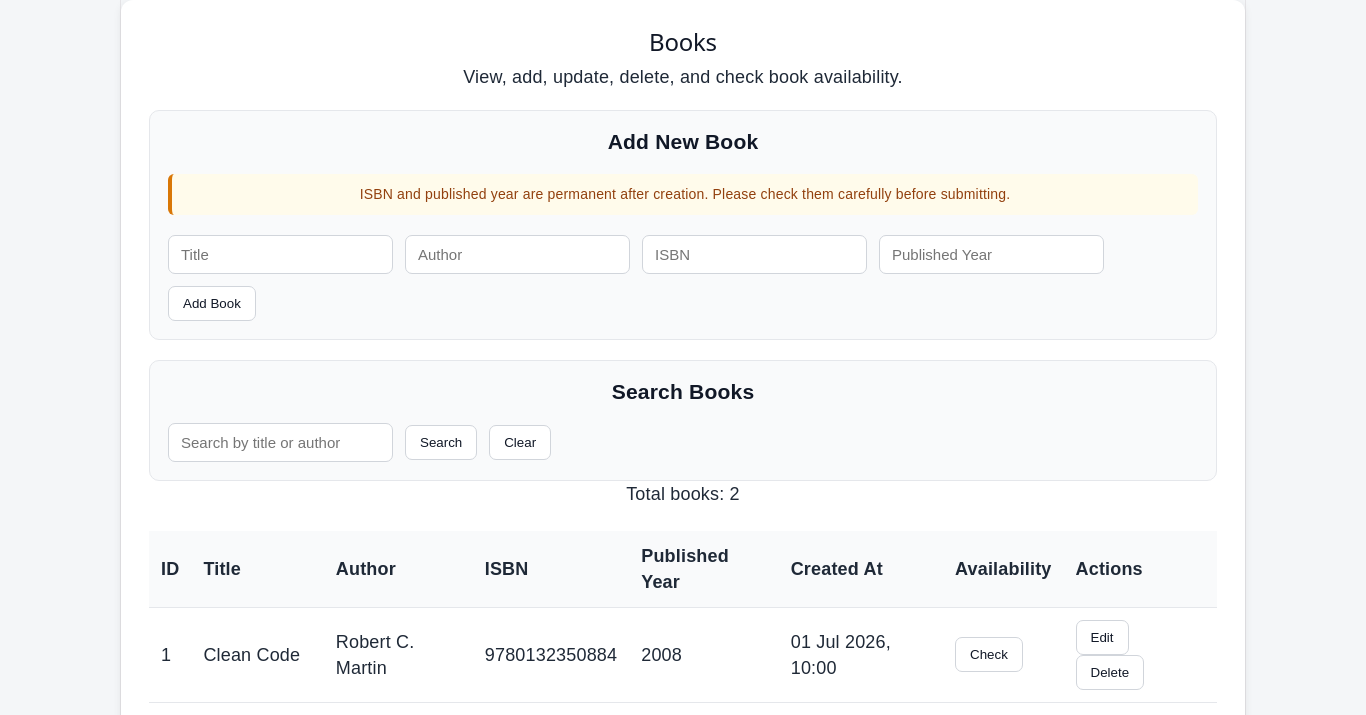
it: BooksPage › should clear the search input and fetch all books
Type "java" into the field with placeholder "Search by title or author" at (280, 442), box x1=168 y1=423 x2=393 y2=462
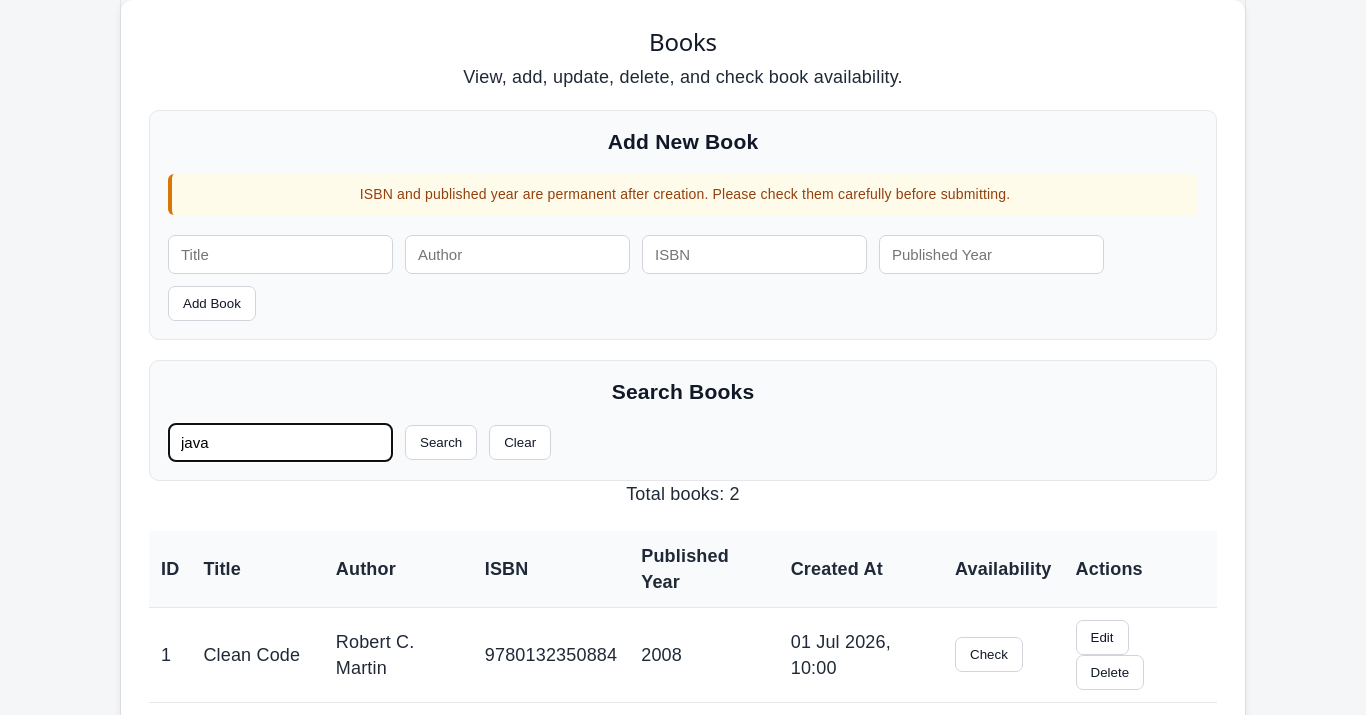
Click the button "Clear" at (520, 442), box x1=489 y1=425 x2=551 y2=460
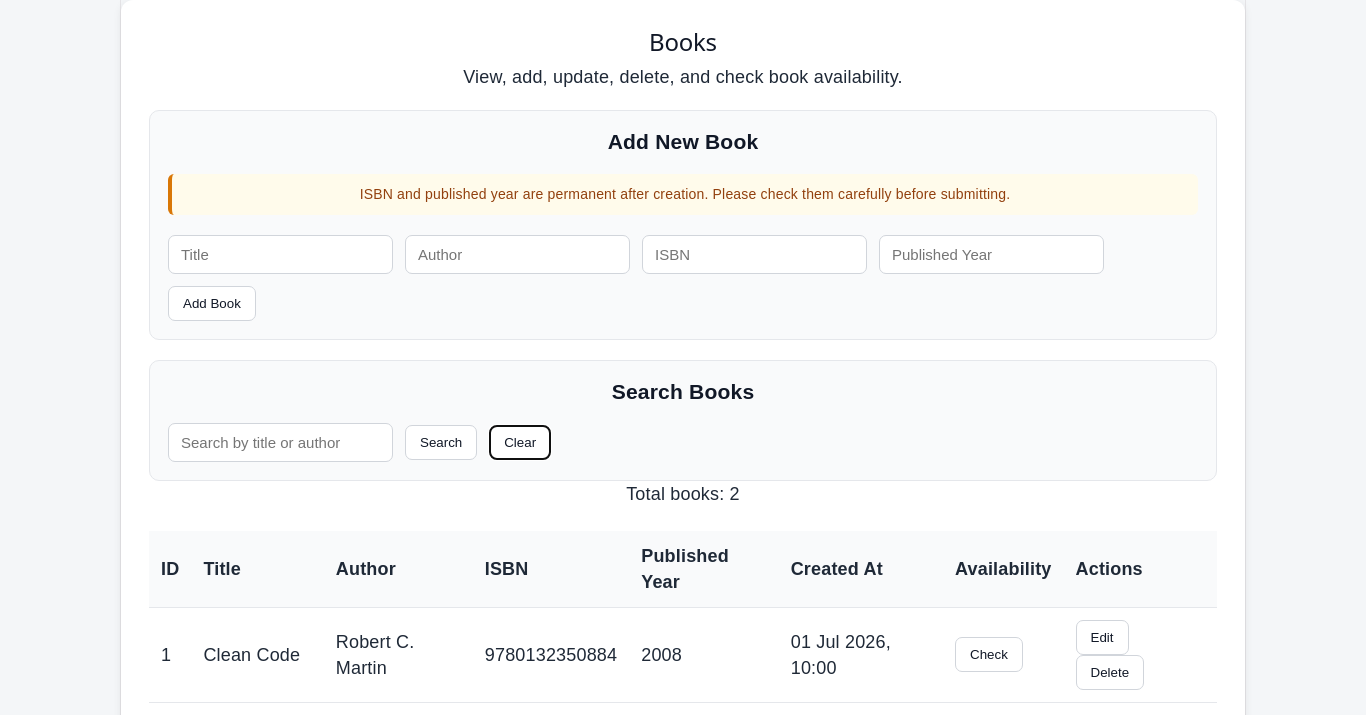
Result: the field with placeholder "Search by title or author" is empty at x1=168 y1=423 x2=393 y2=462
